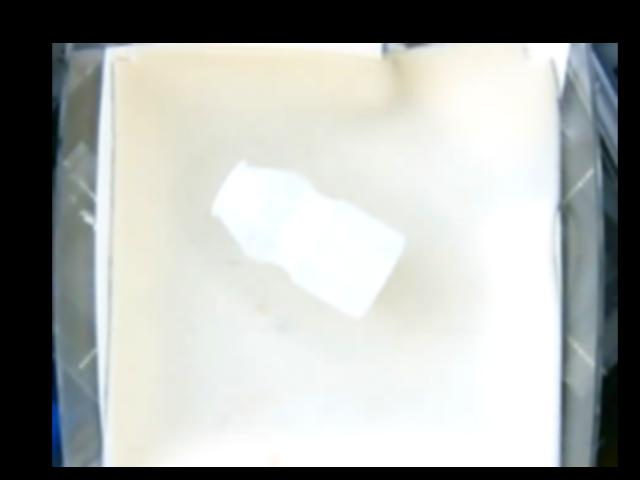Bottle: (209, 158, 407, 319)
